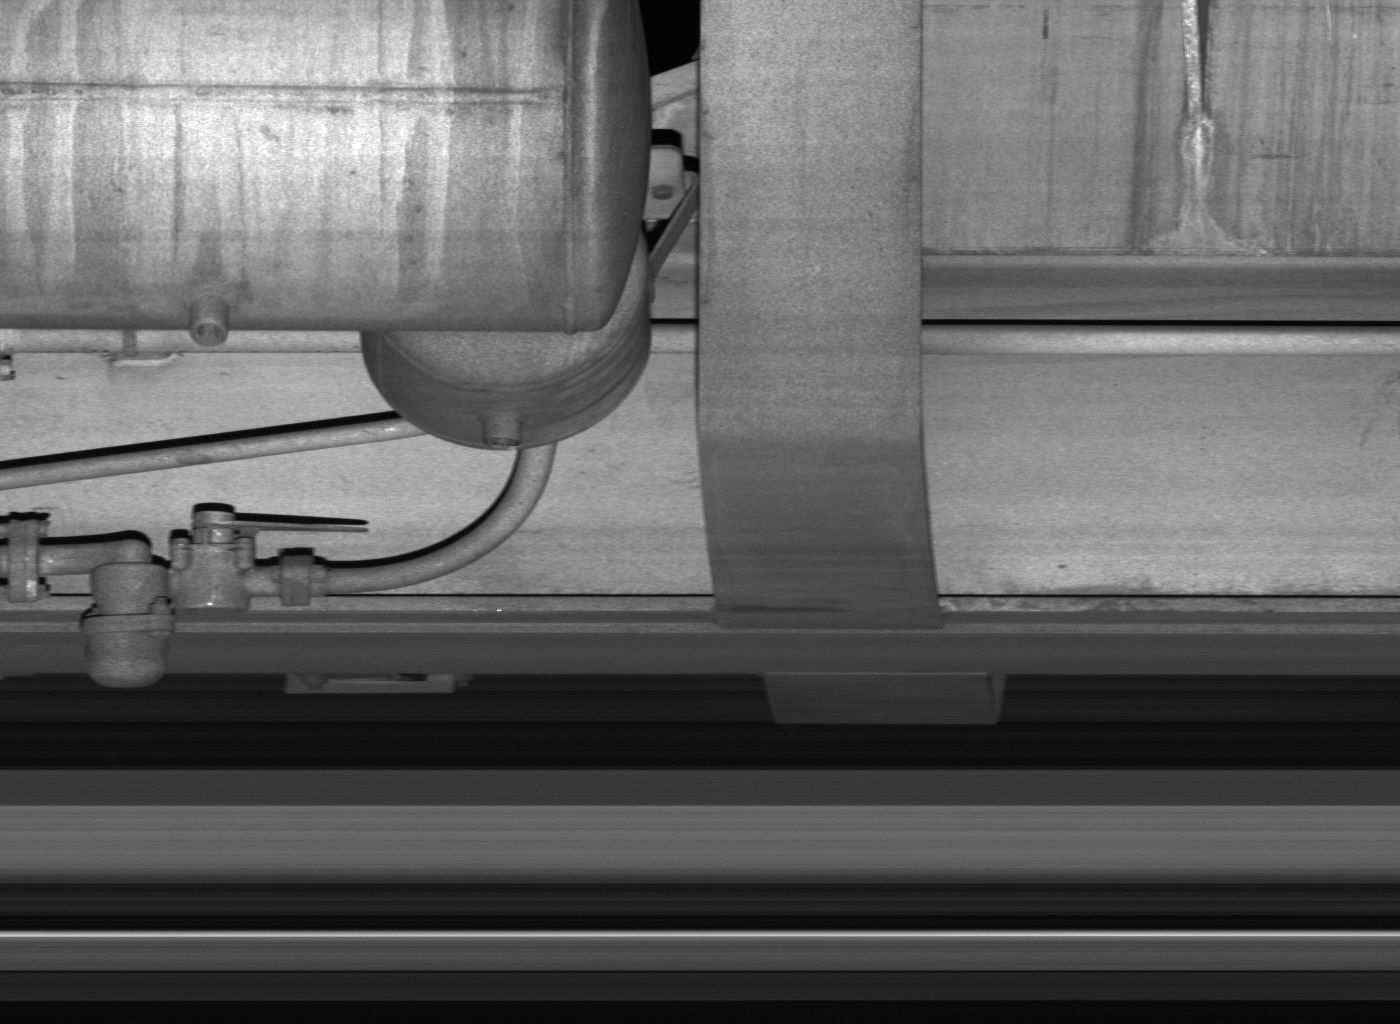normal: (167, 503, 370, 615)
